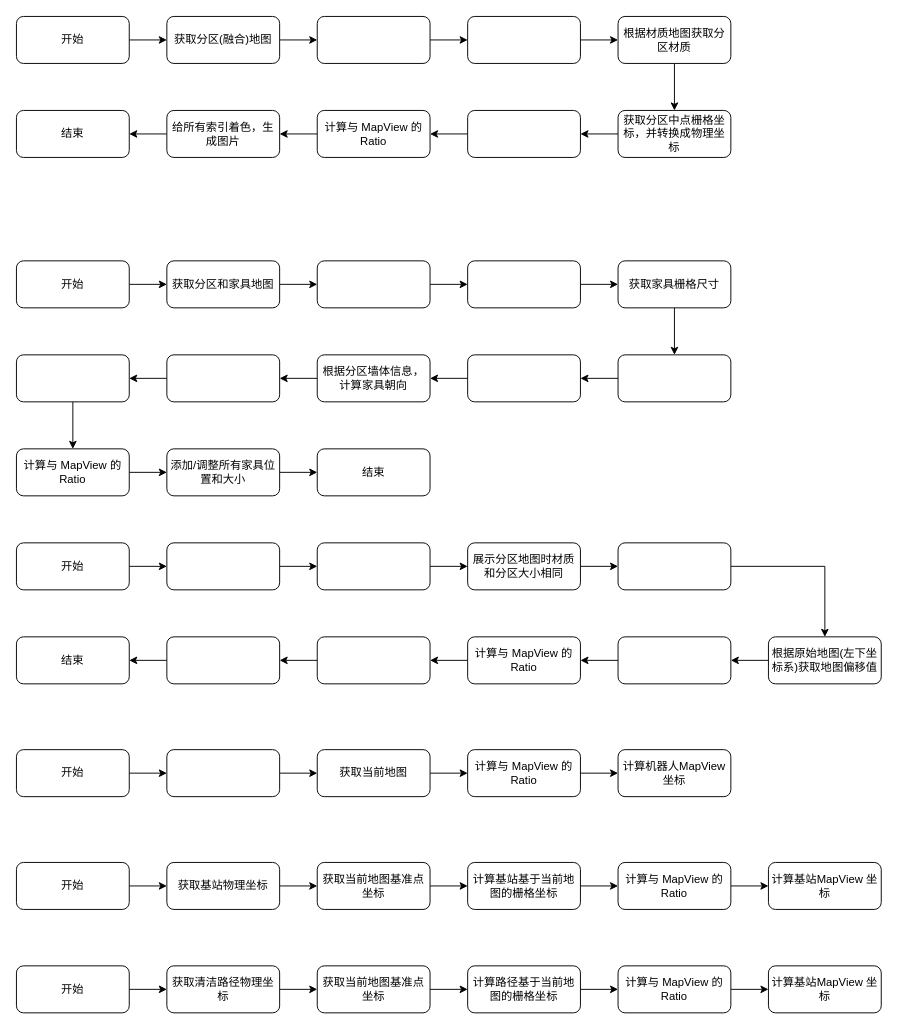
Some shapes in this 898 by 1029 pixel diagram are drawn without their labels. Each missing label, with the box of its shape:
基于分区地图绘制材质信息: (316, 542, 430, 590)
将中心坐标和尺寸调整为物理值: (166, 354, 280, 402)
展示融合地图时，调整材质左上偏移坐标: (617, 542, 731, 590)
根据 Ratio 调整材质图片的大小: (316, 636, 430, 684)
根据 Ratio 调整材质图片的左上坐标: (166, 636, 280, 684)
根据分区墙体信息，计算家具移动后坐标: (467, 354, 580, 402)
根据家具尺寸范围，调整家具大小: (617, 354, 731, 402)
根据当前地图原点物理值坐标，计算家具栅格中点和大小: (16, 354, 129, 402)
获取分区中垂直高度: (467, 110, 580, 157)
获取分区房间材质: (166, 542, 280, 590)
获取分区栅格轮廓，并保存: (467, 16, 580, 63)
获取分区索引: (316, 16, 430, 63)
获取家具栅格中点坐标: (467, 260, 580, 308)
获取家具栅格轮廓: (316, 260, 430, 308)
获取机器人栅格坐标: (166, 749, 280, 797)
转换偏移值为左上坐标系(mapHeight - y 值): (617, 636, 731, 684)
